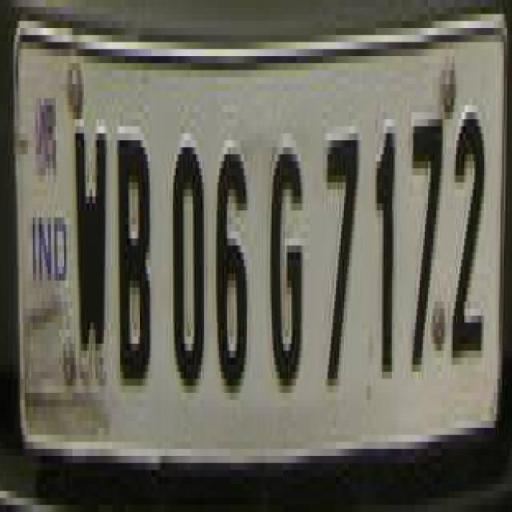number plate: (17, 20, 512, 511)
